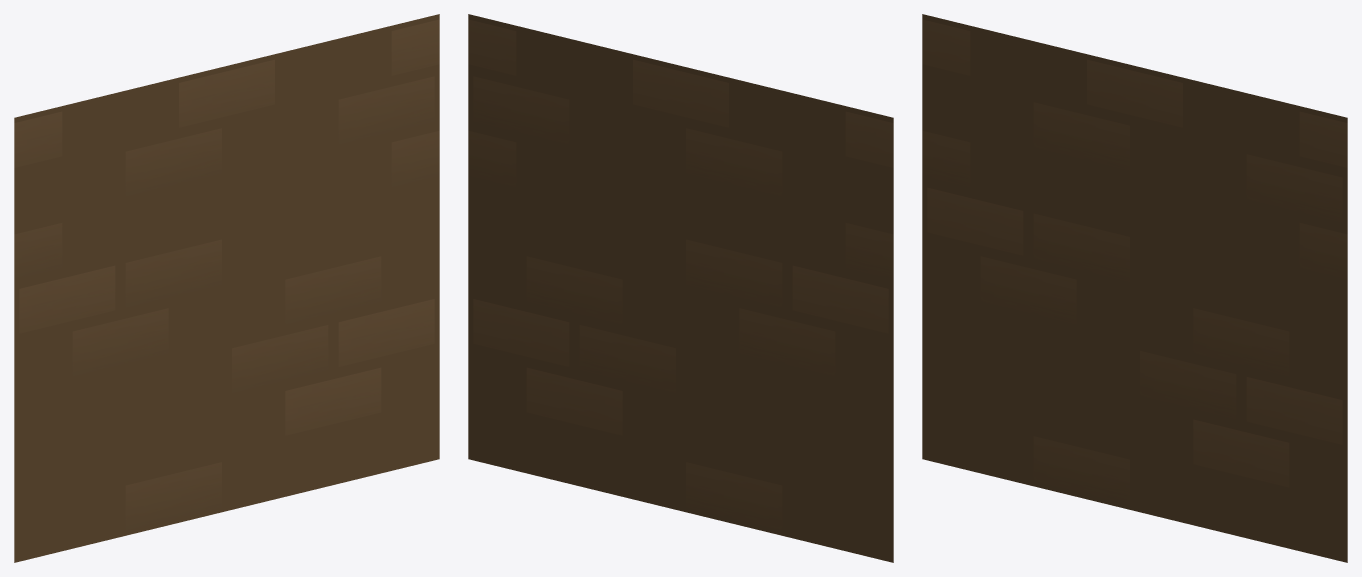
The model's file is SM_Backgroundplane2_4x4Level1.fbx.
The picture shows the model from 3 angles, left to right: view 1: azimuth 30°, elevation 25°; view 2: azimuth 150°, elevation 25°; view 3: azimuth 330°, elevation 25°; orthographic projection.
Visible parts, largest first — view 1: SM_Backgroundplane1_8x20Level1.140; view 2: SM_Backgroundplane1_8x20Level1.140; view 3: SM_Backgroundplane1_8x20Level1.140.
Part boxes in pixels (x1,y1,x2,y2): SM_Backgroundplane1_8x20Level1.140: (14, 14, 439, 562); SM_Backgroundplane1_8x20Level1.140: (468, 14, 893, 562); SM_Backgroundplane1_8x20Level1.140: (922, 14, 1347, 562).
Size of the model in its own units: 400 by 2.98e-06 by 400.
